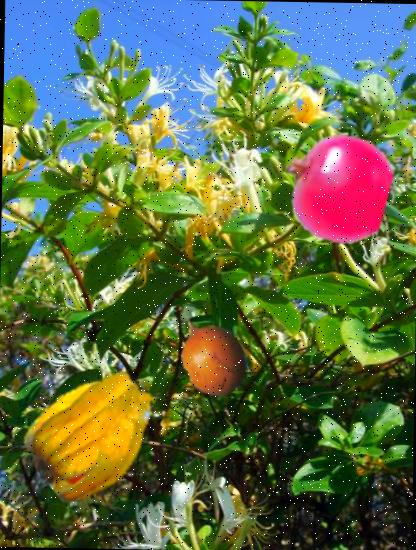Granadilla: (166, 310, 256, 399)
Physalis: (25, 360, 169, 504)
Redcurrant: (280, 130, 392, 243)
